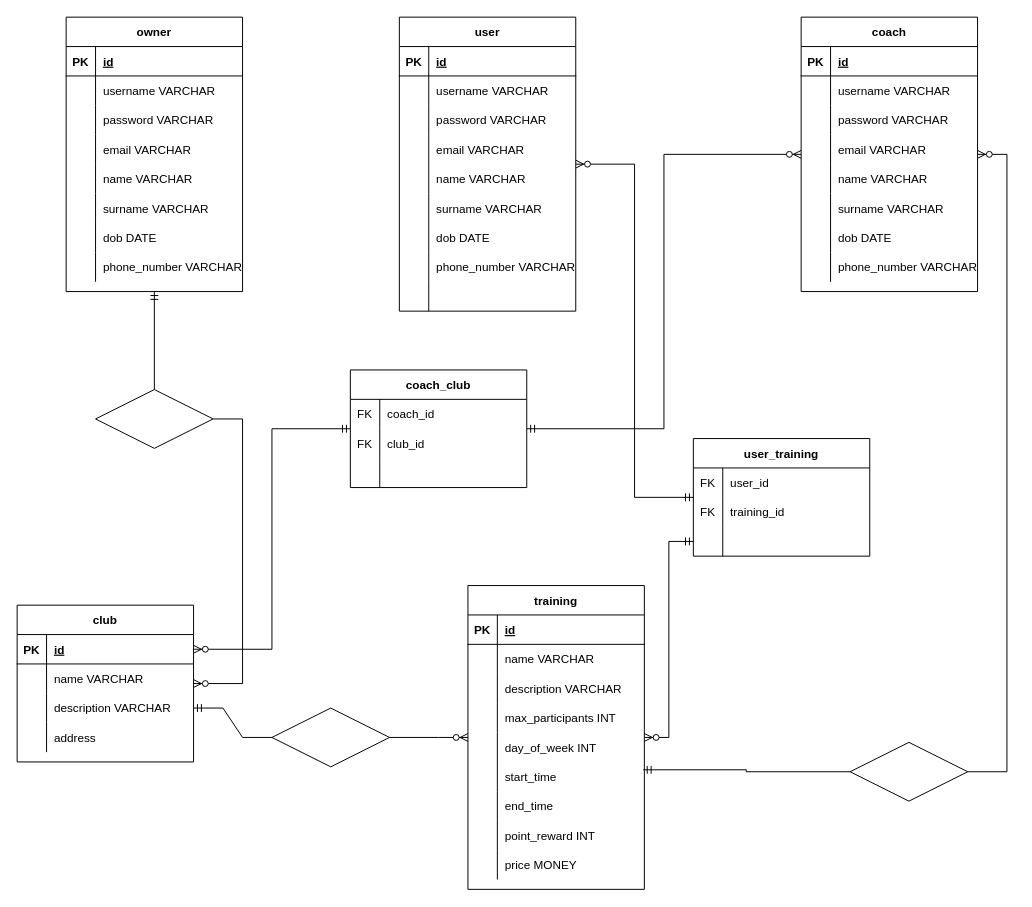
This 1032x907 diagram has some shape labels left out. Here are the shapes that lost their labels. From the top down, the centre of each, then its label:
At pixel 154 418: "owns".
At pixel 330 737: "offers".
At pixel 908 771: "conduct".
